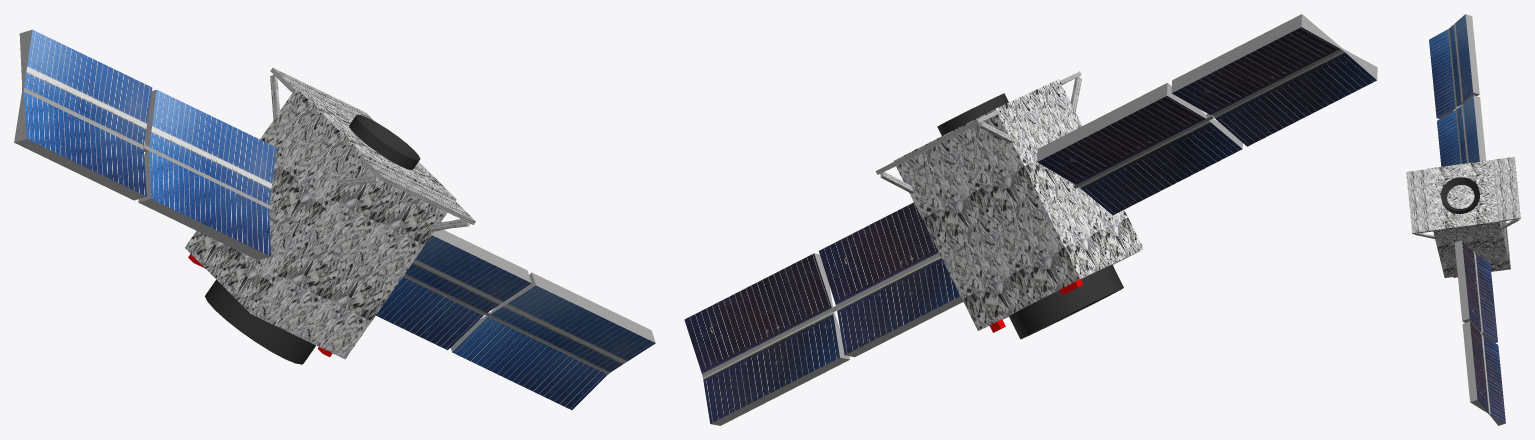
File: Satalite.fbx
3 views of the same model, side by side, from view 1: azimuth 30°, elevation 25°; view 2: azimuth 150°, elevation 25°; view 3: azimuth 270°, elevation 25° (orthographic). The views are drawn at different scales.
Visible parts, largest first — view 1: pasted__group6_group4_pCylinder2; view 2: pasted__group6_group4_pCylinder2; view 3: pasted__group6_group4_pCylinder2.
Boxes of the visible parts, x1,y1,x2,y2 form: pasted__group6_group4_pCylinder2: (14,29,655,409); pasted__group6_group4_pCylinder2: (684,14,1377,425); pasted__group6_group4_pCylinder2: (1406,14,1520,425).
Bounding box in the file's own units: 6.25 × 4.79 × 1.83.
